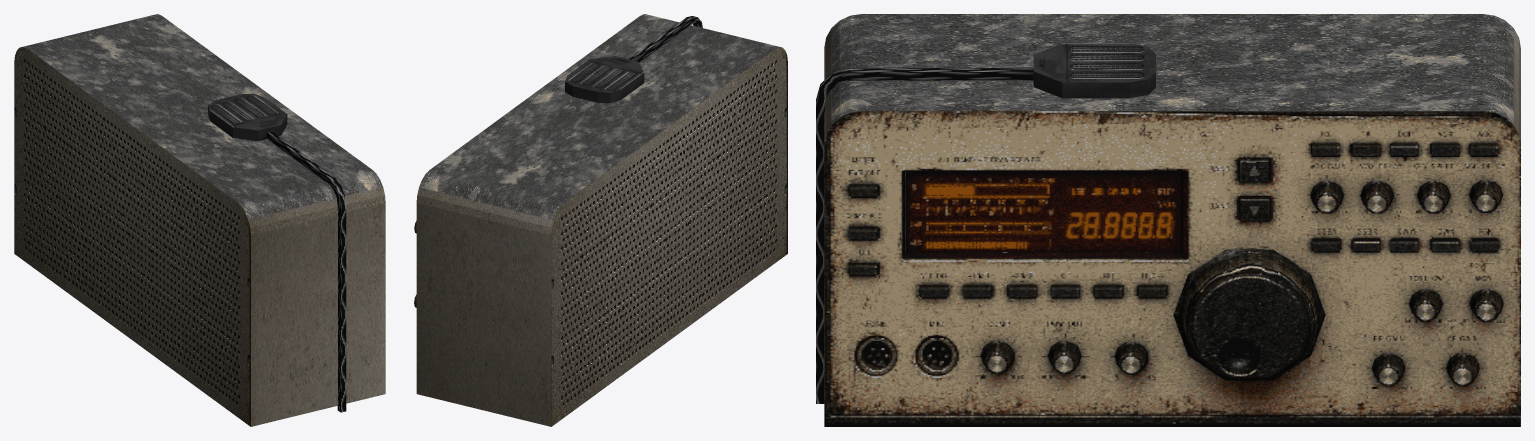
The model's file is Radio.fbx.
3 views of the same model, side by side, from view 1: azimuth 30°, elevation 25°; view 2: azimuth 150°, elevation 25°; view 3: azimuth 270°, elevation 25° (orthographic). The views are drawn at different scales.
Visible parts, largest first — view 1: radio, Mic; view 2: radio, Mic; view 3: radio, Mic.
Boxes of the visible parts, x1,y1,x2,y2 form: radio: (14, 14, 385, 426); Mic: (208, 93, 346, 412); radio: (414, 14, 787, 426); Mic: (565, 16, 702, 103); radio: (824, 14, 1520, 426); Mic: (816, 43, 1155, 403).
Size of the model in its own units: 136 by 202 by 380.
Materials: 2 (2 with a texture image).
